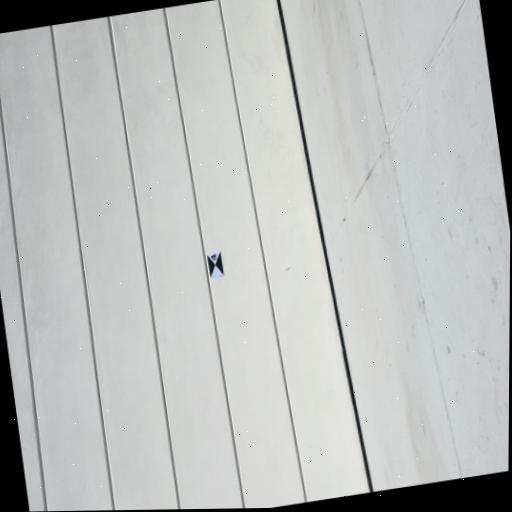target4: (207, 251, 225, 278)
